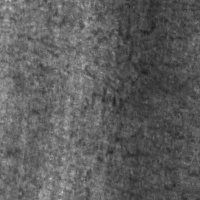crazing: (82, 8, 162, 128)
